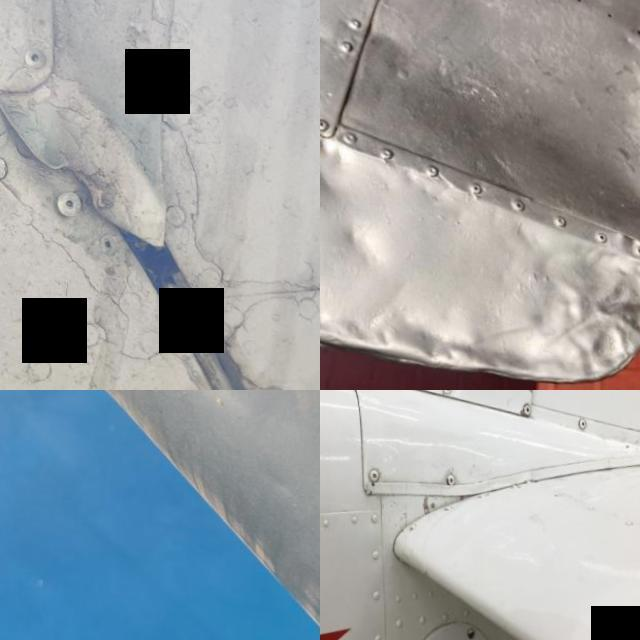Crack: (378, 470, 488, 550), (53, 146, 112, 212), (486, 390, 540, 421)
Dent: (320, 268, 547, 390), (520, 222, 640, 381), (325, 205, 400, 282), (320, 107, 357, 211)
